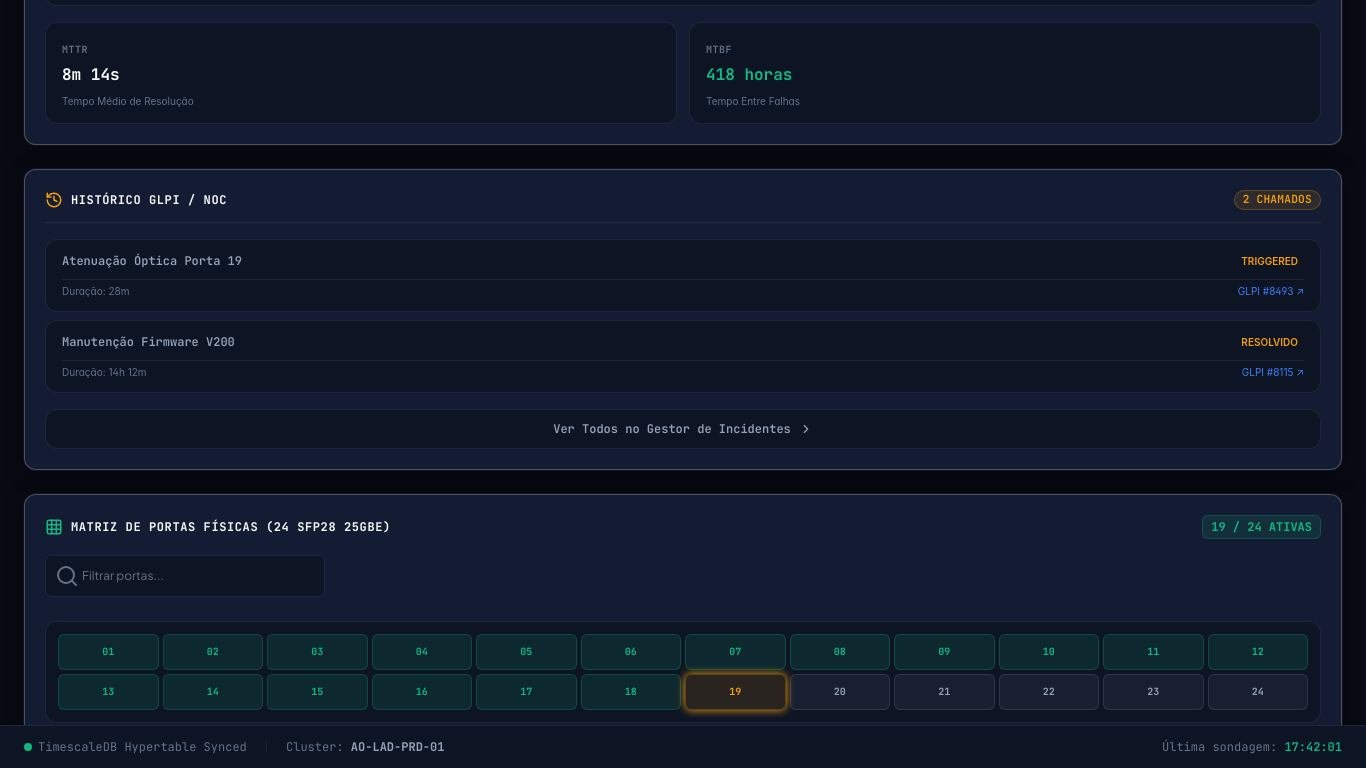
DeviceDetailPage — Cockpit 360° do Dispositivo (Issue #244) › Matriz de Interfaces Ópticas › deve exibir detalhe da porta ao clicar
The image size is (1366, 768).
(page scrolled)
What coordinates should you click on to do the following:
click the button "01"
I would click on:
 (108, 652)
Its box is [58, 634, 158, 670].
(page scrolled)
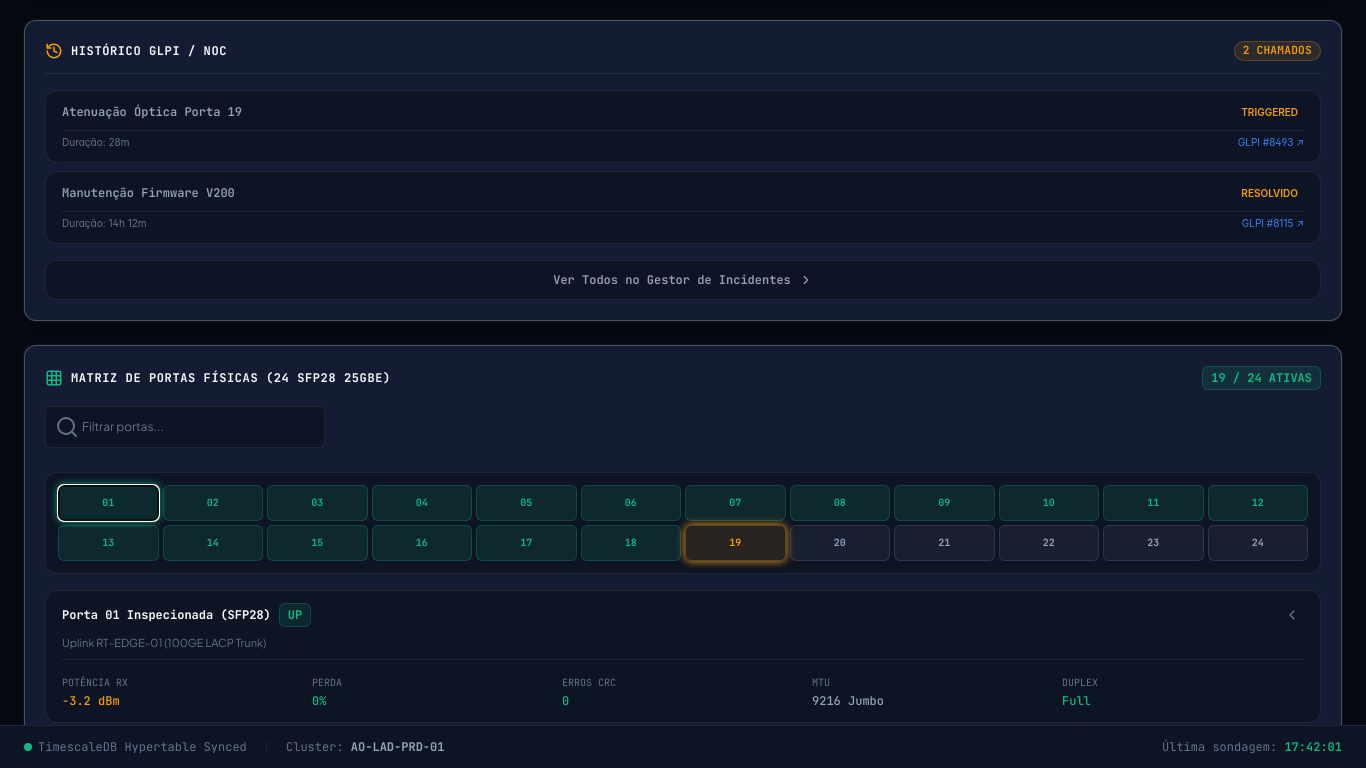
expect the text "Porta 01 Inspecionada (SFP28)" is shown: met, box [62, 606, 271, 624]
expect the text "-3.2 dBm" is shown: met, box [62, 693, 120, 709]
